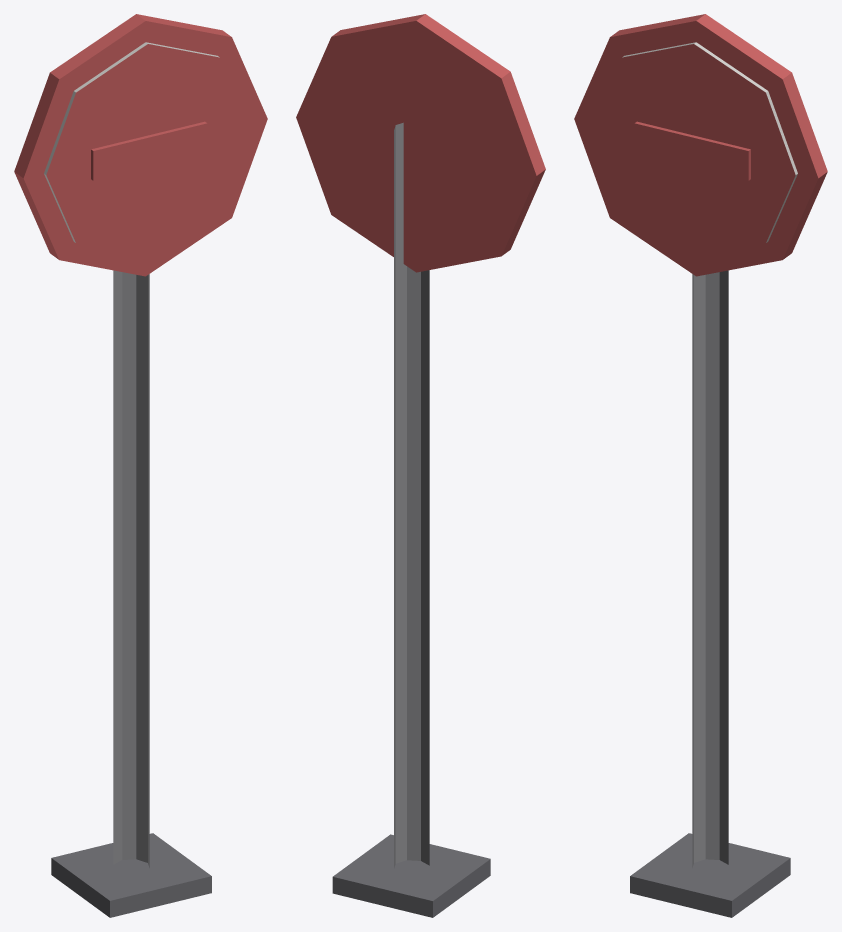
The model's file is placa_pare.glb.
The picture shows the model from 3 angles, left to right: view 1: azimuth 30°, elevation 25°; view 2: azimuth 150°, elevation 25°; view 3: azimuth 330°, elevation 25°; orthographic projection.
Visible parts, largest first — view 1: placa_pare; view 2: placa_pare; view 3: placa_pare.
Boxes of the visible parts, left/top/right/bottom form: placa_pare: left=14, top=14, right=267, bottom=917; placa_pare: left=296, top=14, right=545, bottom=917; placa_pare: left=574, top=14, right=827, bottom=917.
Size of the model in its own units: 0.6 by 2.05 by 0.25.
